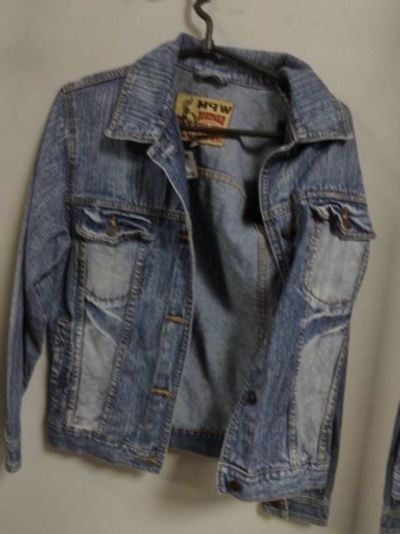Blazer: (0, 8, 394, 534), (0, 0, 24, 484), (378, 67, 400, 534), (43, 0, 400, 9)
